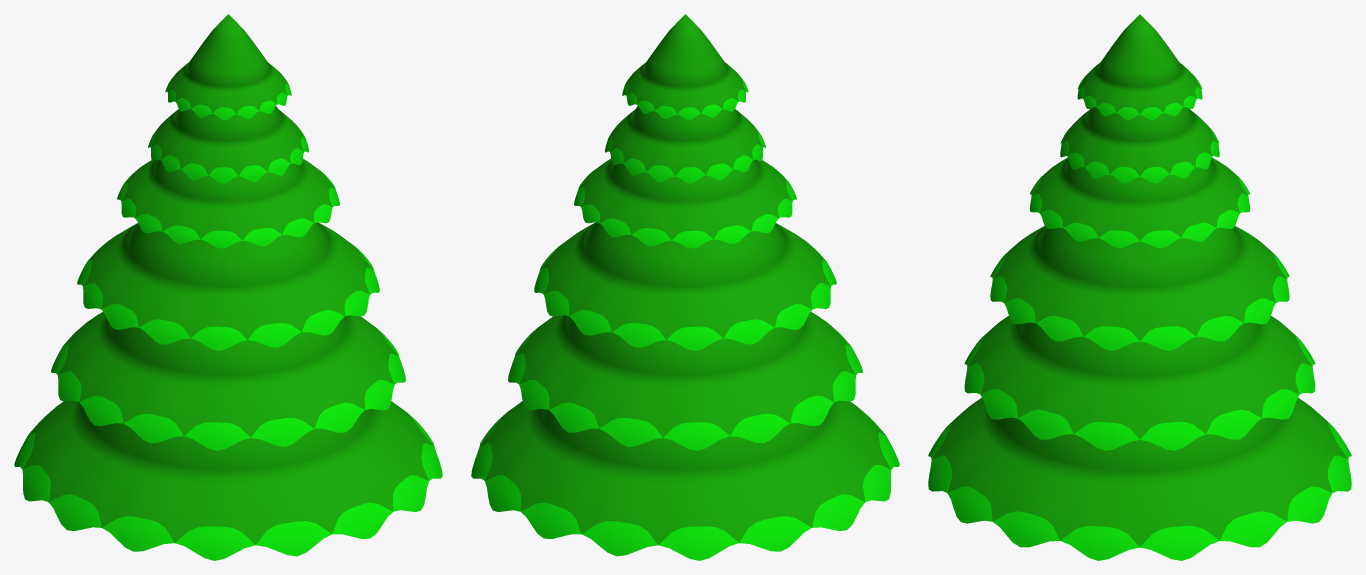
The model's file is Pino.fbx.
The picture shows the model from 3 angles, left to right: view 1: azimuth 30°, elevation 25°; view 2: azimuth 150°, elevation 25°; view 3: azimuth 270°, elevation 25°; orthographic projection.
Visible parts, largest first — view 1: Pino; view 2: Pino; view 3: Pino.
Part boxes in pixels (box(x1,y1,x2,y2)): Pino: box(14, 14, 442, 560); Pino: box(471, 14, 899, 560); Pino: box(928, 14, 1351, 560).
Size of the model in its own units: 956 by 1285 by 956.
